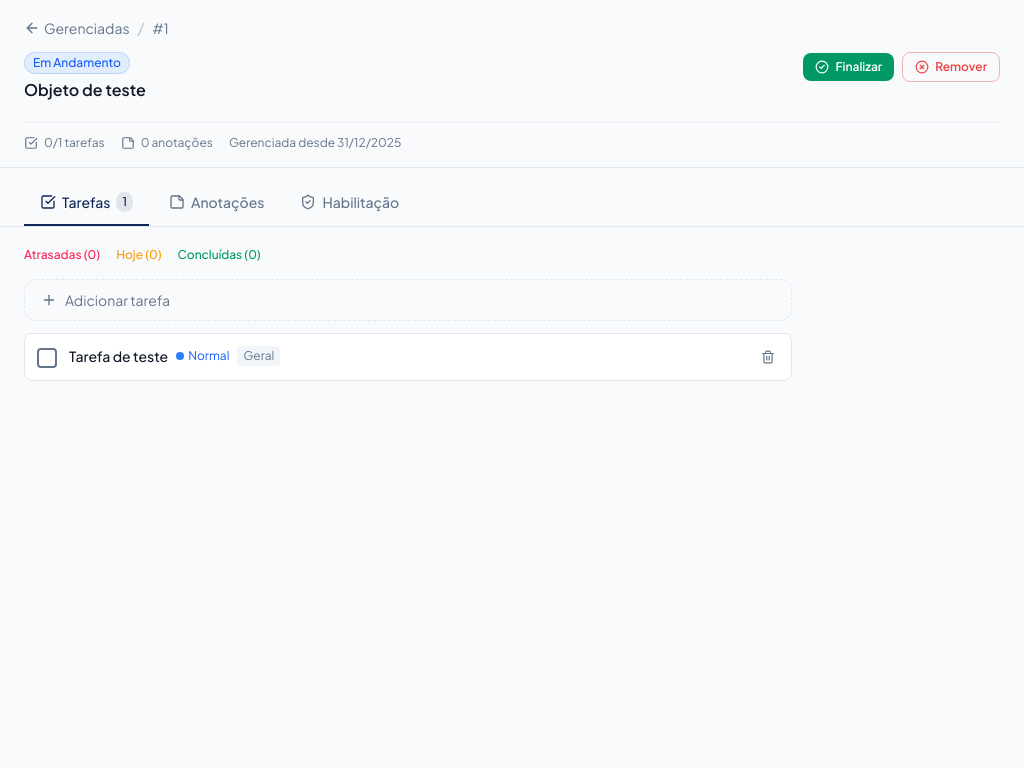
it: GerenciamentoDetalhe – toggleTarefa onError toast › shows 'Erro ao atualizar tarefa' toast when PATCH tarefas/:id returns 500
Check: the text "Tarefa de teste" is shown, box x1=69 y1=346 x2=168 y2=366
Step 1. Click the button named "Marcar tarefa como concluída" → (47, 358), box x1=37 y1=348 x2=57 y2=368
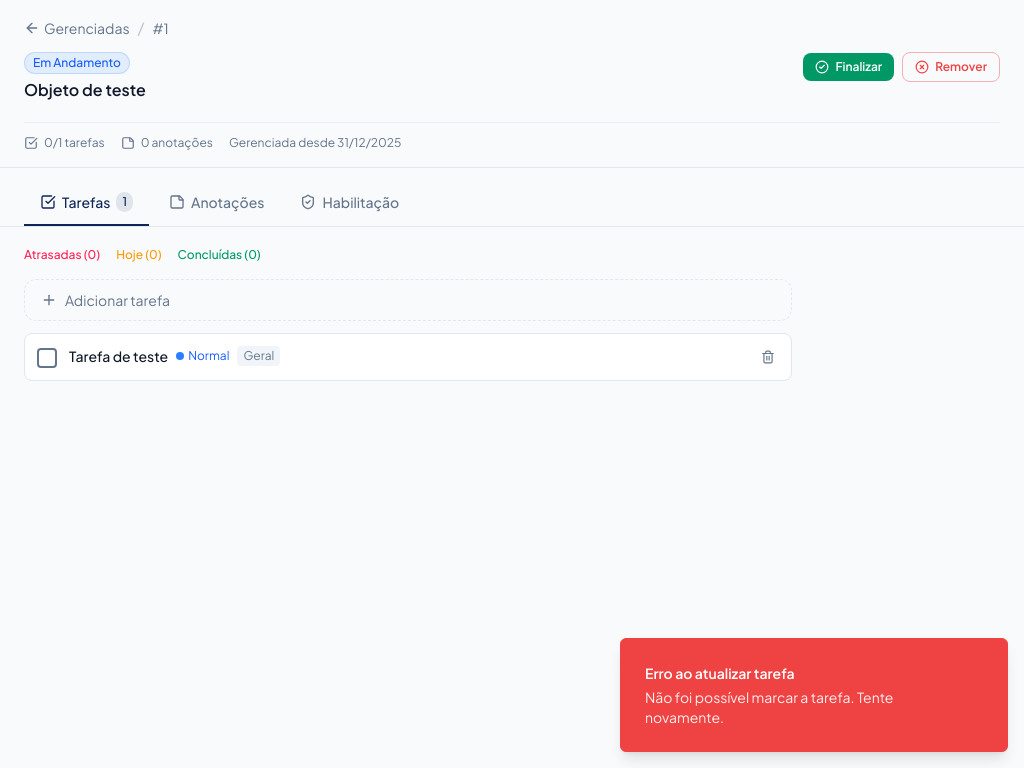
Check: the text "Erro ao atualizar tarefa" is shown, box x1=645 y1=664 x2=795 y2=682
Check: the text "Não foi possível marcar a tarefa. Tente novamente." is shown, box x1=645 y1=688 x2=894 y2=726
